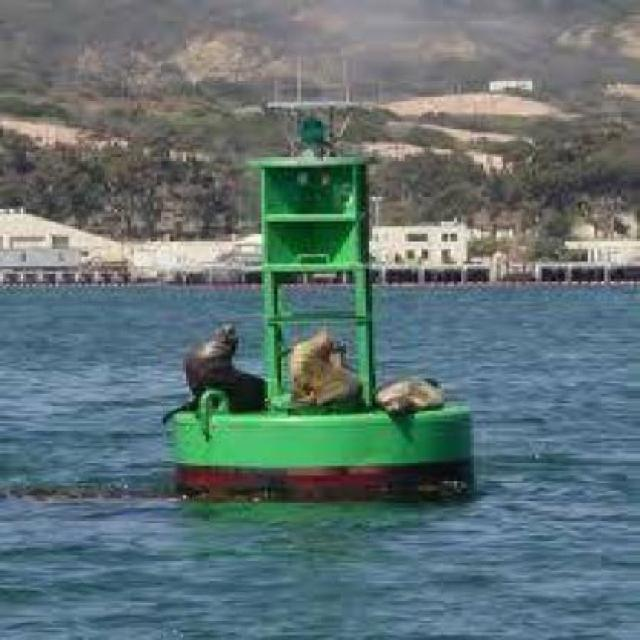buoy: (145, 91, 491, 502)
